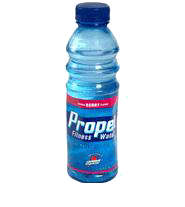grozi_56: (65, 3, 118, 182)
